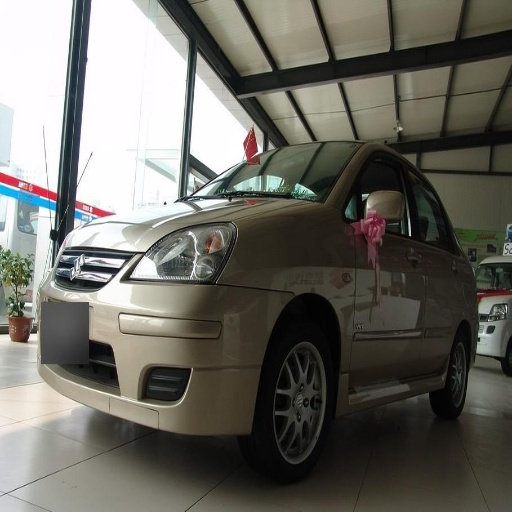back_glass: (208, 2, 322, 67)
front_bumper: (40, 248, 276, 432)
front_left_door: (351, 153, 426, 382)
trunk: (439, 267, 480, 338)
